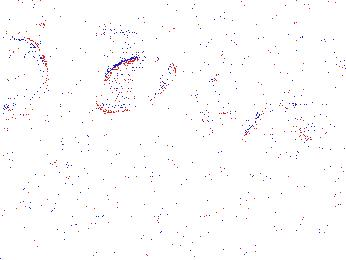moon jellyfish: (204, 35, 301, 97), (293, 38, 346, 141), (93, 57, 177, 115), (1, 33, 50, 119)
